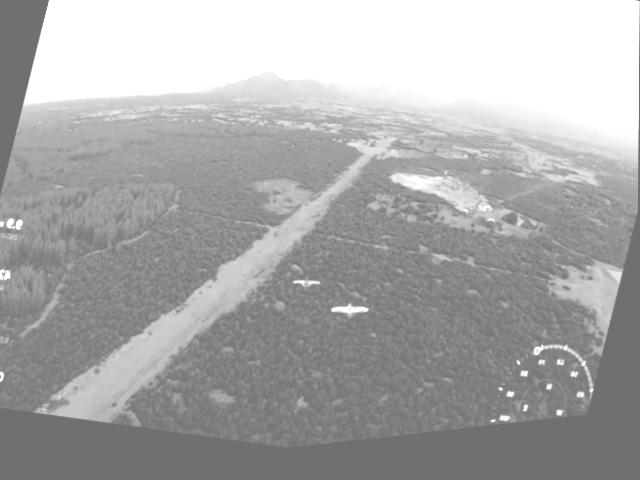hedef: (284, 270, 330, 313)
